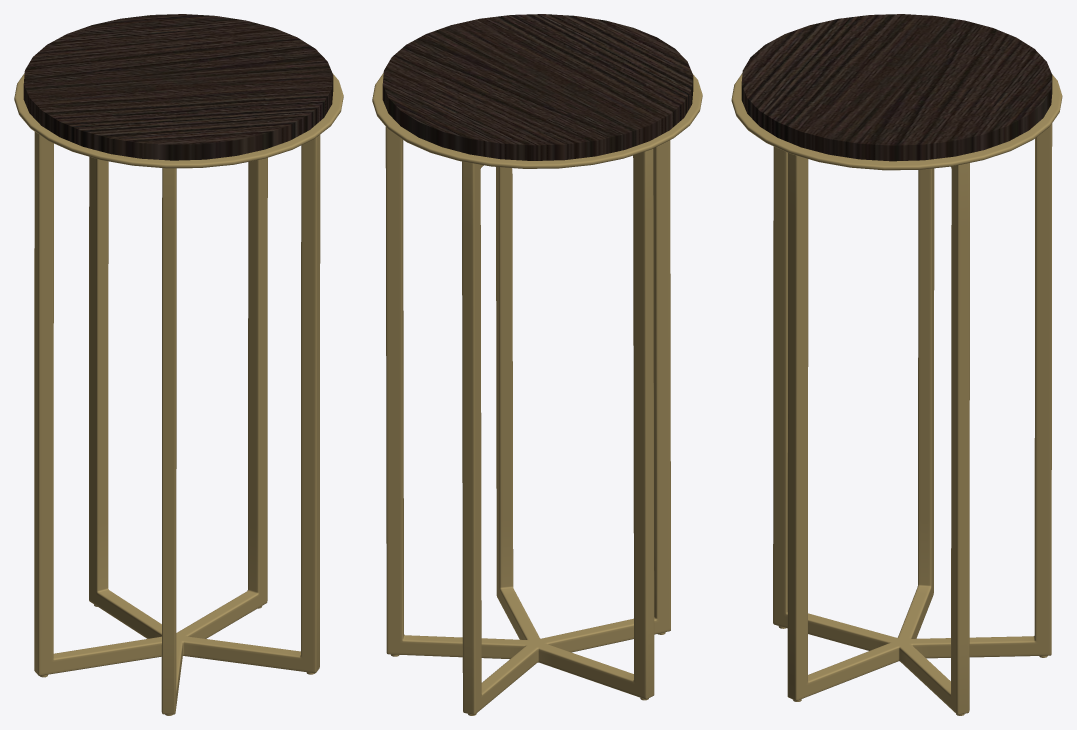
Rendered from concord_side_table_tall.glb.
3 views of the same model, side by side, from view 1: azimuth 30°, elevation 25°; view 2: azimuth 150°, elevation 25°; view 3: azimuth 270°, elevation 25° (orthographic).
Parts seen in each view (by area): view 1: Rectangle021, Cylinder025, Cylinder005; view 2: Rectangle021, Cylinder025, Cylinder005; view 3: Rectangle021, Cylinder025, Cylinder005.
Boxes of the visible parts, box(x1,y1,x2,y2) form: Rectangle021: box(34, 132, 320, 715); Cylinder025: box(23, 14, 333, 160); Cylinder005: box(14, 73, 343, 168); Rectangle021: box(385, 127, 670, 715); Cylinder025: box(382, 14, 693, 160); Cylinder005: box(372, 73, 702, 168); Rectangle021: box(773, 123, 1052, 715); Cylinder025: box(741, 14, 1052, 161); Cylinder005: box(731, 73, 1062, 170).
Size of the model in its own units: 0.3814 by 0.7393 by 0.3824.
Materials: 2 (1 with a texture image).
